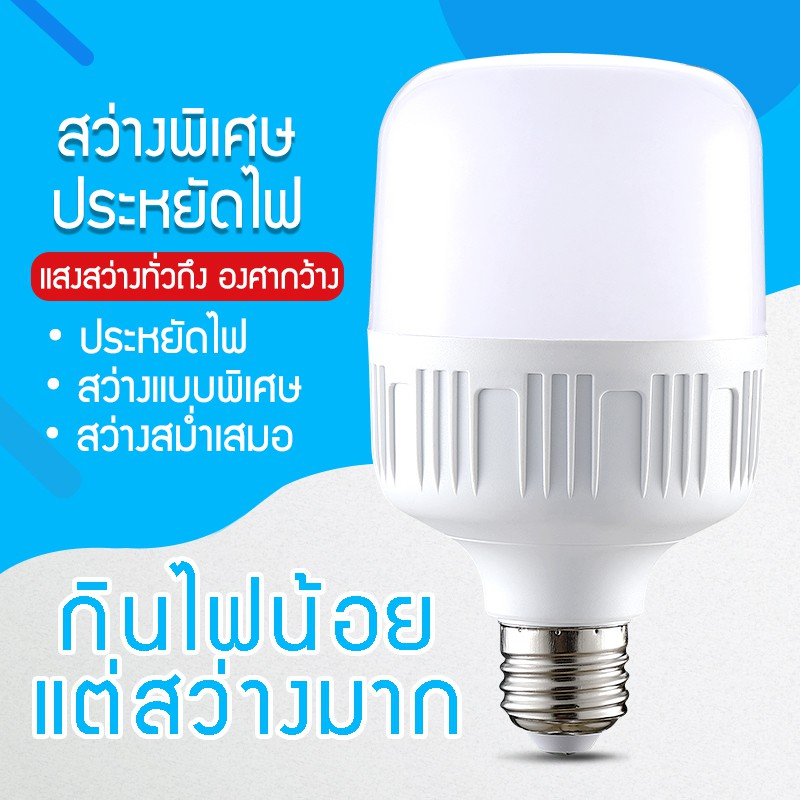Light_bulb: (355, 37, 780, 762)
